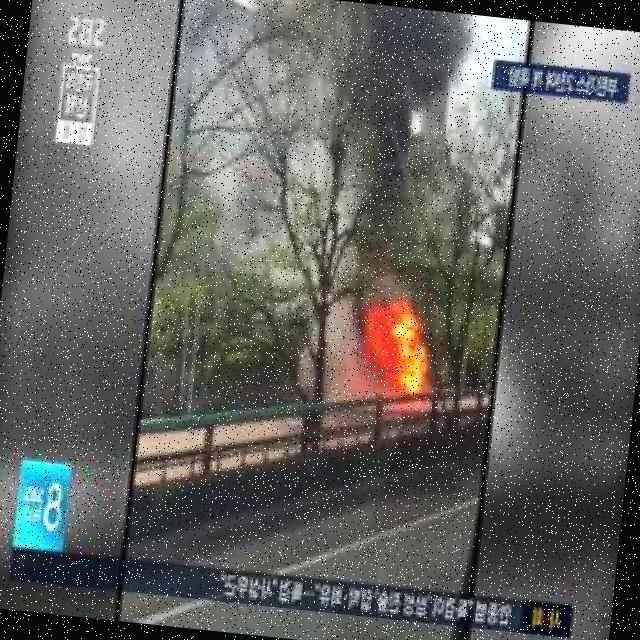Fire: (354, 294, 441, 406)
